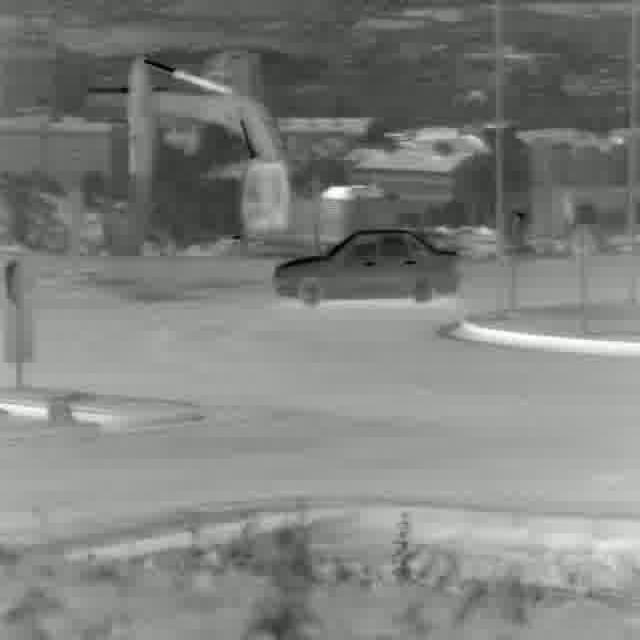Car: (271, 227, 461, 305)
